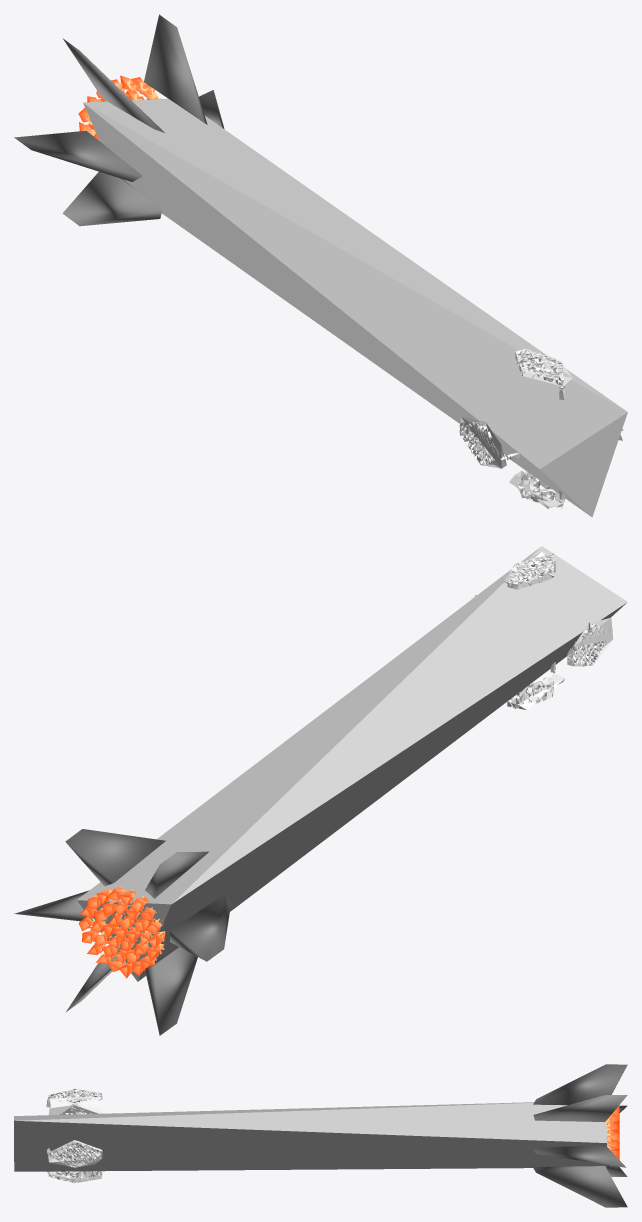
Rendered from superheavy.glb.
3 renders of one model, top to bottom at view 1: azimuth 30°, elevation 25°; view 2: azimuth 150°, elevation 25°; view 3: azimuth 270°, elevation 25°, orthographic. The views are drawn at different scales.
Visible parts, largest first — view 1: Super Heavy, Booster Fins, Grid Fin R, Grid Fin B, Booster Engines, Grid Fin F; view 2: Super Heavy, Booster Fins, Booster Engines, Grid Fin R, Grid Fin B, Grid Fin F; view 3: Super Heavy, Booster Fins, Grid Fin L, Grid Fin B, Booster Engines, Grid Fin F, Grid Fin R.
Boxes of the visible parts, x1,y1,x2,y2 form: Super Heavy: (83,98,627,517); Booster Fins: (14,14,224,226); Grid Fin R: (459,416,506,468); Grid Fin B: (515,349,572,386); Booster Engines: (78,75,161,140); Grid Fin F: (509,470,563,508); Super Heavy: (77,546,627,981); Booster Fins: (14,829,231,1035); Booster Engines: (78,886,165,978); Grid Fin R: (567,617,613,666); Grid Fin B: (501,551,554,589); Grid Fin F: (507,672,564,709); Super Heavy: (14,1102,606,1171); Booster Fins: (532,1064,627,1207); Grid Fin L: (47,1140,102,1168); Grid Fin B: (48,1088,102,1103); Booster Engines: (606,1106,619,1165); Grid Fin F: (48,1171,102,1182); Grid Fin R: (48,1103,101,1115).
Bounding box in the file's own units: 17.32 × 14.64 × 72.22.
